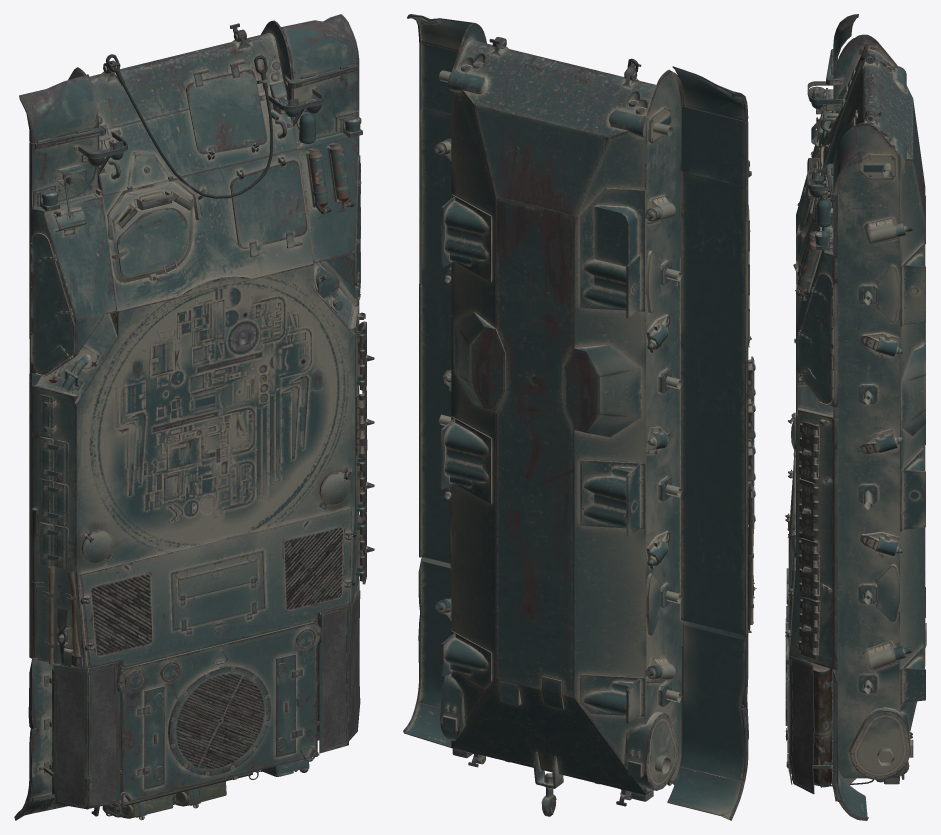
Rendered from Hull.glb.
3 views of the same model, side by side, from view 1: azimuth 30°, elevation 25°; view 2: azimuth 150°, elevation 25°; view 3: azimuth 270°, elevation 25° (orthographic). The views are drawn at different scales.
Parts seen in each view (by area): view 1: set_0_group_0; view 2: set_0_group_0; view 3: set_0_group_0.
Part boxes in pixels (x1,y1,x2,y2): set_0_group_0: (14, 14, 374, 820); set_0_group_0: (403, 14, 756, 820); set_0_group_0: (785, 14, 926, 820).
Bounding box in the file's own units: 3.13 × 6.89 × 1.26.
Materials: 1 (1 with a texture image).
